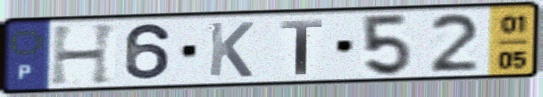2: (427, 11, 483, 75)
5: (357, 11, 416, 78)
6: (122, 22, 174, 83)
H: (48, 21, 122, 87)
K: (205, 20, 257, 79)
T: (279, 18, 326, 77)
